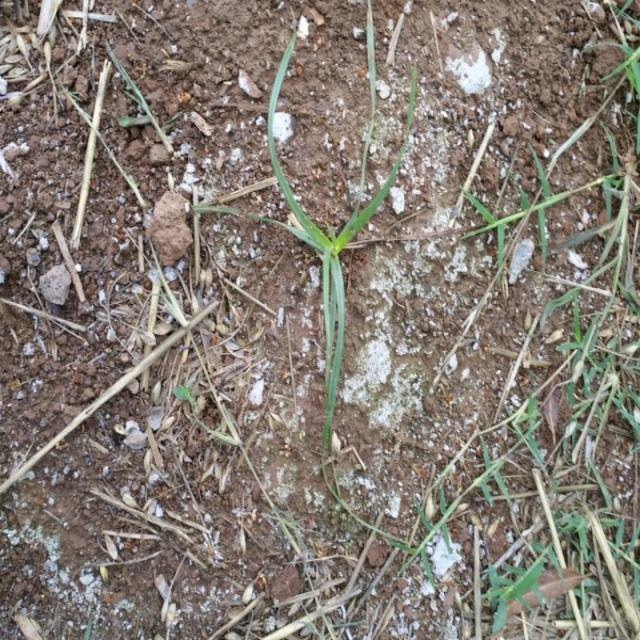sedge: (212, 49, 438, 486)
